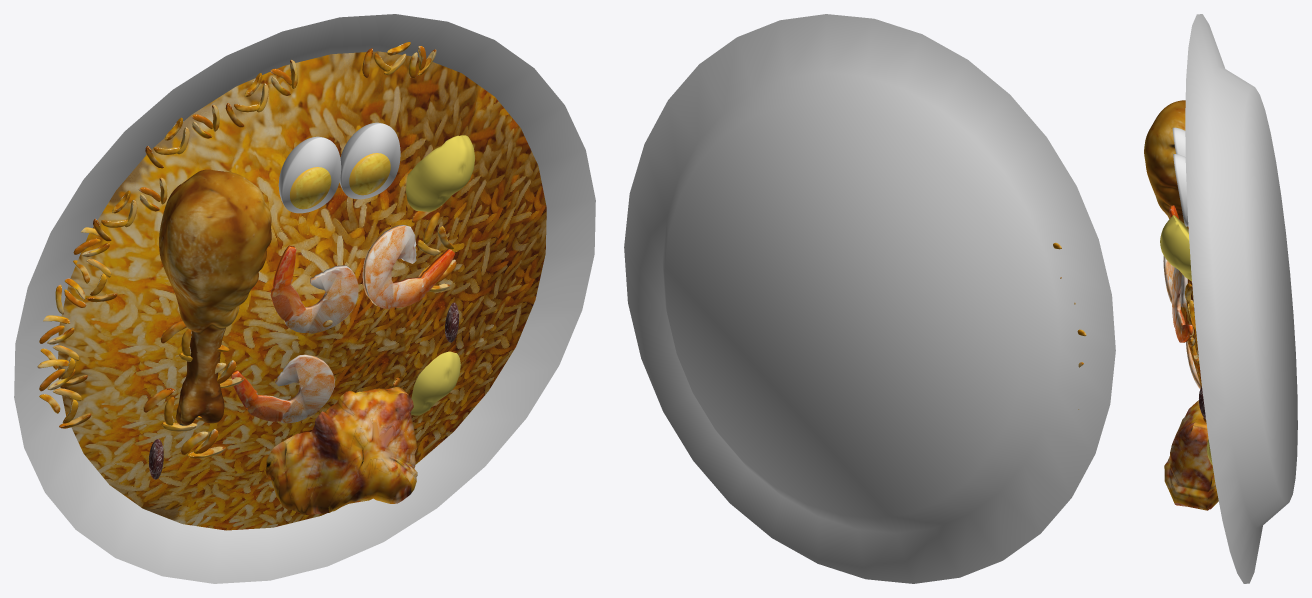
Rendered from mixedbiryani-v1.glb.
3 renders of one model, left to right at view 1: azimuth 30°, elevation 25°; view 2: azimuth 150°, elevation 25°; view 3: azimuth 270°, elevation 25°, orthographic. The views are drawn at different scales.
Visible parts, largest first — view 1: Cone, Circle.001, 15513_Fried_Chicken_Drumstick_v1.001, Vert.003, Vert.004, Vert.001, Vert.002, Sphere, Sphere.003, Sphere.001, Sphere.004, Plane.028 (+9 smaller); view 2: Circle.001; view 3: Circle.001, Vert.003, 15513_Fried_Chicken_Drumstick_v1.001, Sphere.001, Vert.001, Sphere.003, Cone, Plane.029, Vert.004, Sphere, Vert.002.
Boxes of the visible parts, <box> form: Cone: <box>58,51,546,530</box>; Circle.001: <box>14,14,595,583</box>; 15513_Fried_Chicken_Drumstick_v1.001: <box>159,169,271,425</box>; Vert.003: <box>265,387,417,514</box>; Vert.004: <box>270,245,358,333</box>; Vert.001: <box>362,224,454,309</box>; Vert.002: <box>231,354,334,423</box>; Sphere: <box>278,136,341,213</box>; Sphere.003: <box>339,122,400,199</box>; Sphere.001: <box>406,135,474,211</box>; Sphere.004: <box>410,351,460,415</box>; Plane.028: <box>143,388,225,458</box>; Circle.001: <box>624,14,1115,583</box>; Circle.001: <box>1185,14,1297,583</box>; Vert.003: <box>1164,400,1218,510</box>; 15513_Fried_Chicken_Drumstick_v1.001: <box>1144,100,1185,223</box>; Sphere.001: <box>1160,215,1191,280</box>; Vert.001: <box>1172,267,1193,342</box>; Sphere.003: <box>1173,154,1188,226</box>; Cone: <box>1181,226,1201,386</box>; Plane.029: <box>1185,279,1198,362</box>; Vert.004: <box>1163,205,1179,303</box>; Sphere: <box>1172,127,1185,156</box>; Vert.002: <box>1186,341,1201,388</box>.
Size of the model in its own units: 8.73 by 8.68 by 2.34.
Materials: 28 (23 with a texture image).
